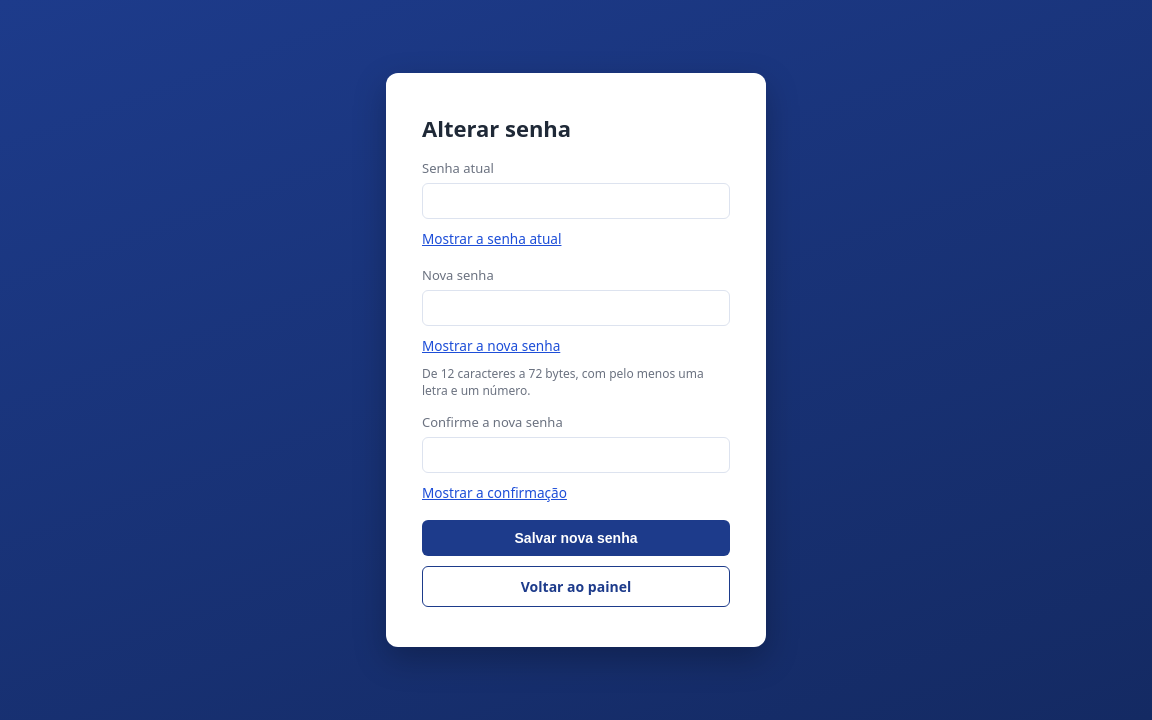
Test: página de alteração de senha › mostra na nova senha a regra recusada pelo servidor
The width and height of the screenshot is (1152, 720).
Type "senha-correta" into the password field labelled "Senha atual".
click(576, 201); type("senha-correta")  # box [422, 183, 730, 219]
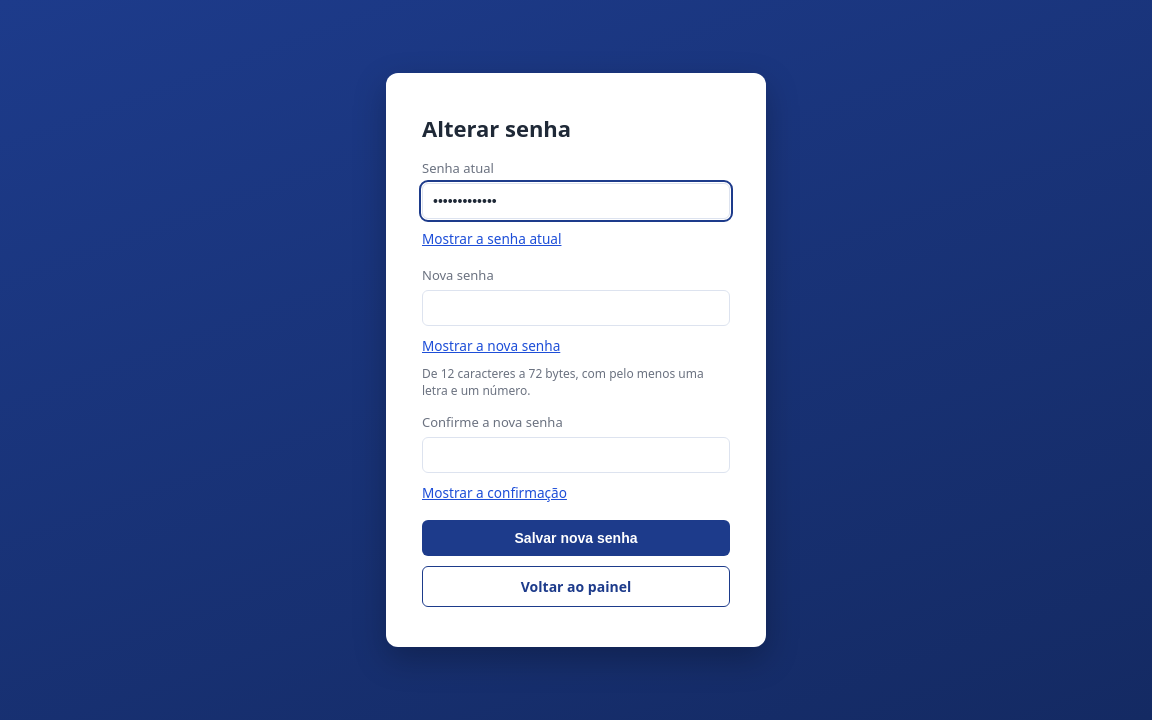
Type "admin2026seguro" into the password field labelled "Nova senha".
click(576, 308); type("admin2026seguro")  # box [422, 290, 730, 326]
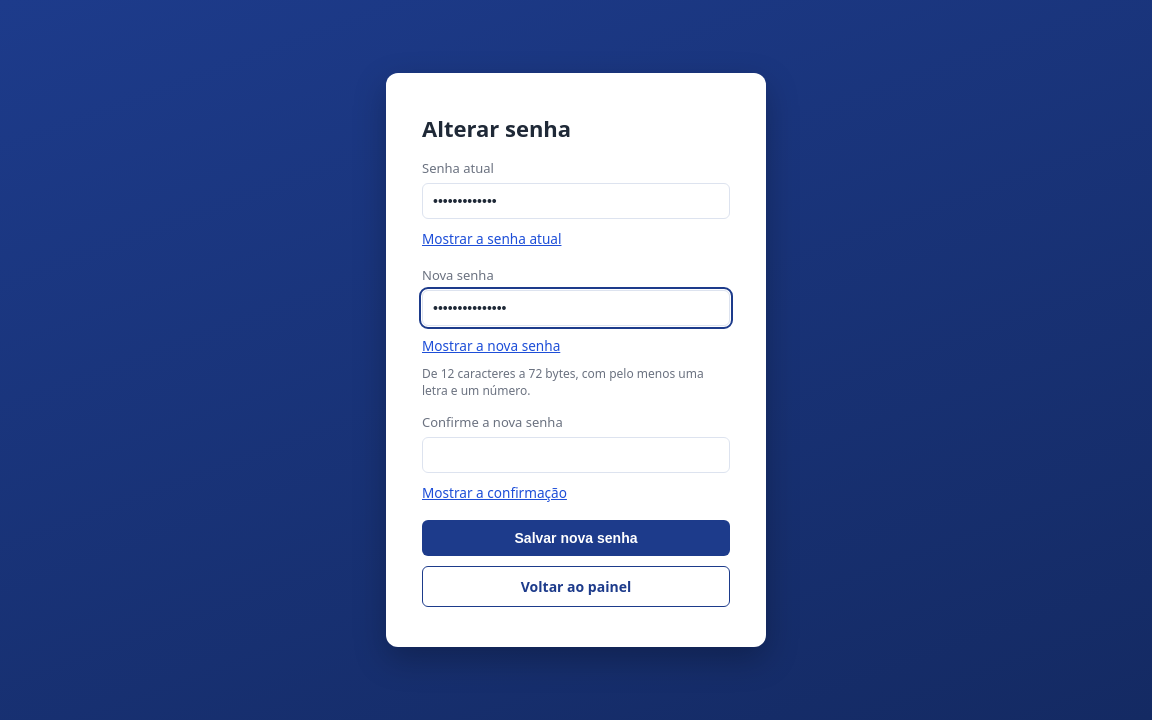
Type "admin2026seguro" into the password field labelled "Confirme a nova senha".
click(576, 455); type("admin2026seguro")  # box [422, 437, 730, 473]
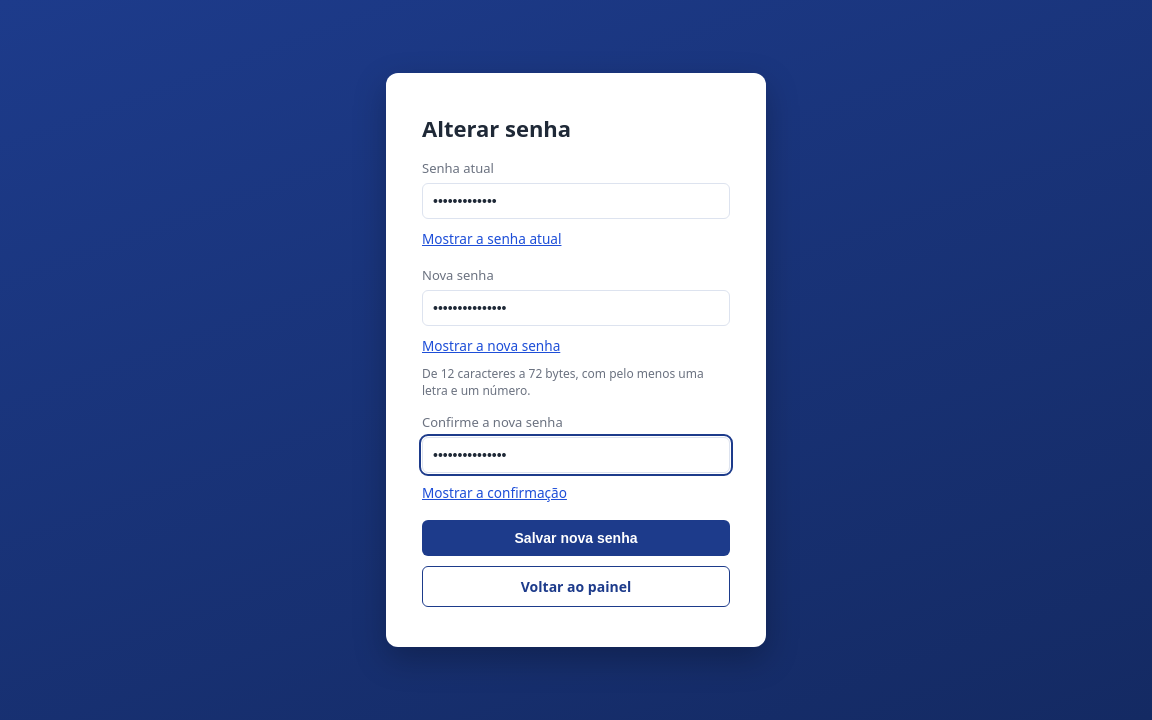
Click the button "Salvar nova senha".
click(576, 538)  # box [422, 520, 730, 556]
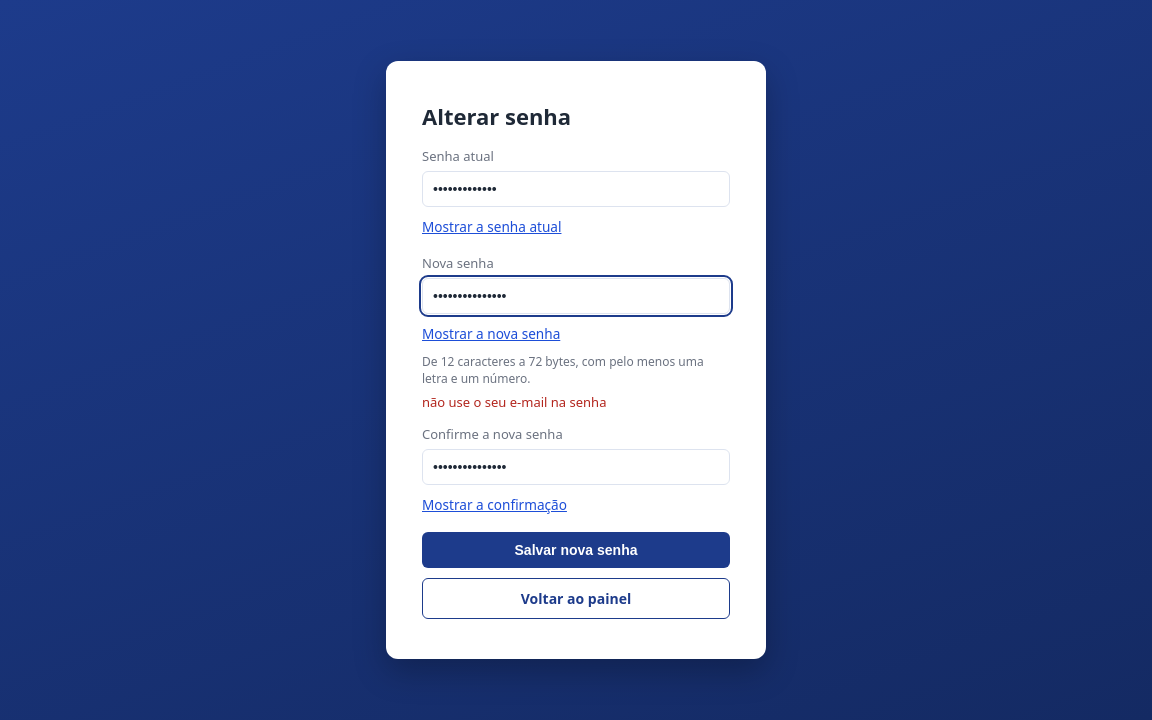
Result: the text "não use o seu e-mail na senha" is shown at [422, 393, 606, 411]
